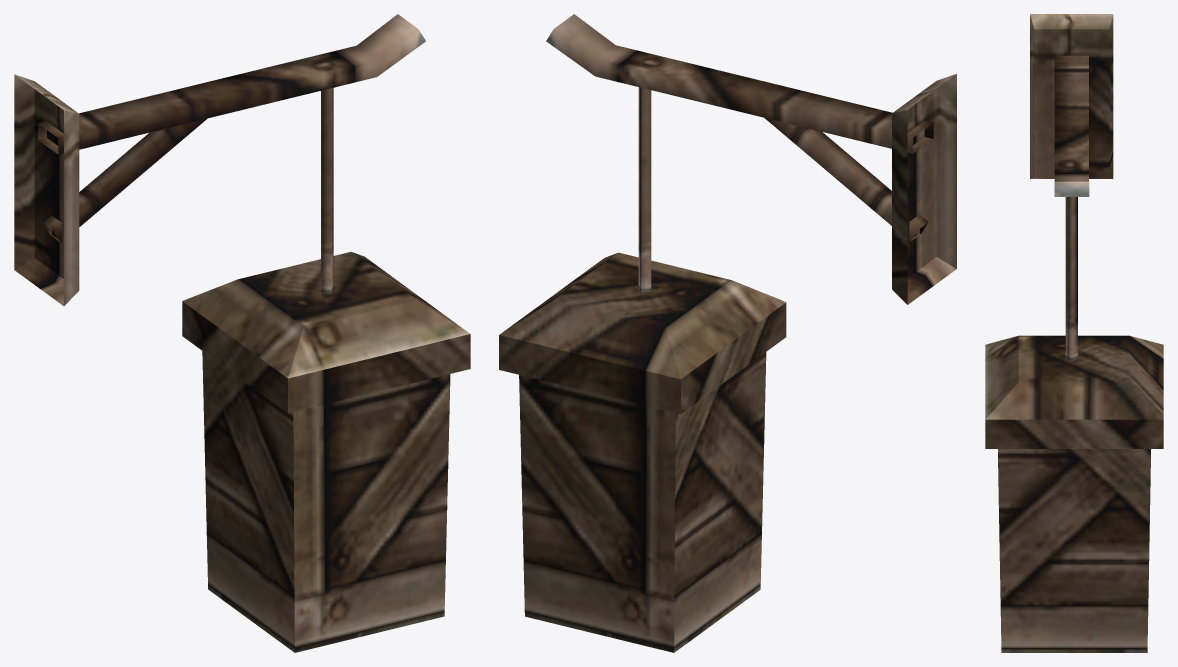
File: GY_diaodeng.fbx
The picture shows the model from 3 angles, left to right: view 1: azimuth 30°, elevation 25°; view 2: azimuth 150°, elevation 25°; view 3: azimuth 270°, elevation 25°; orthographic projection. The views are drawn at different scales.
Visible parts, largest first — view 1: GY_diaodeng; view 2: GY_diaodeng; view 3: GY_diaodeng.
Boxes of the visible parts, x1,y1,x2,y2 form: GY_diaodeng: (14,14,470,652); GY_diaodeng: (499,14,956,652); GY_diaodeng: (985,14,1163,652).
Bounding box in the file's own units: 70.58 × 103 × 34.06.
